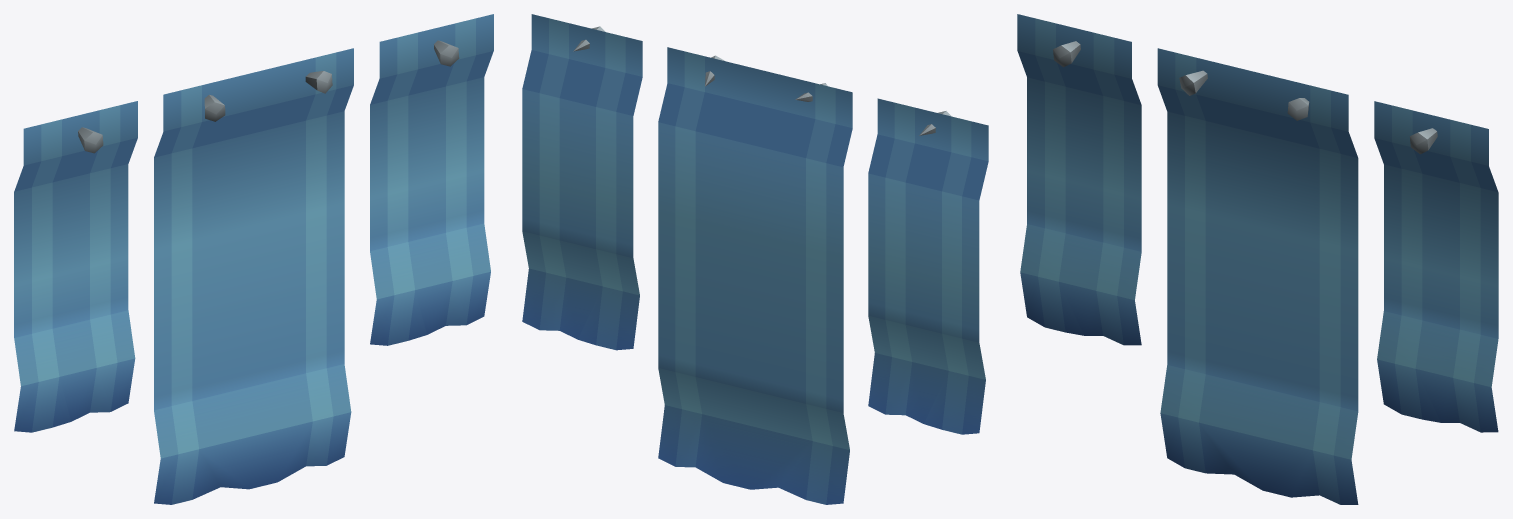
File: banner_triple_blue.obj
3 renders of one model, left to right at view 1: azimuth 30°, elevation 25°; view 2: azimuth 150°, elevation 25°; view 3: azimuth 330°, elevation 25°, orthographic. The views are drawn at different scales.
Parts seen in each view (by area): view 1: banner_triple_blue; view 2: banner_triple_blue; view 3: banner_triple_blue.
Part boxes in pixels (x1,y1,x2,y2): banner_triple_blue: (14,14,493,504); banner_triple_blue: (522,14,988,504); banner_triple_blue: (1017,14,1498,504).
Size of the model in its own units: 3.7 by 3.2 by 0.3623.
1 material, 1 textured.
